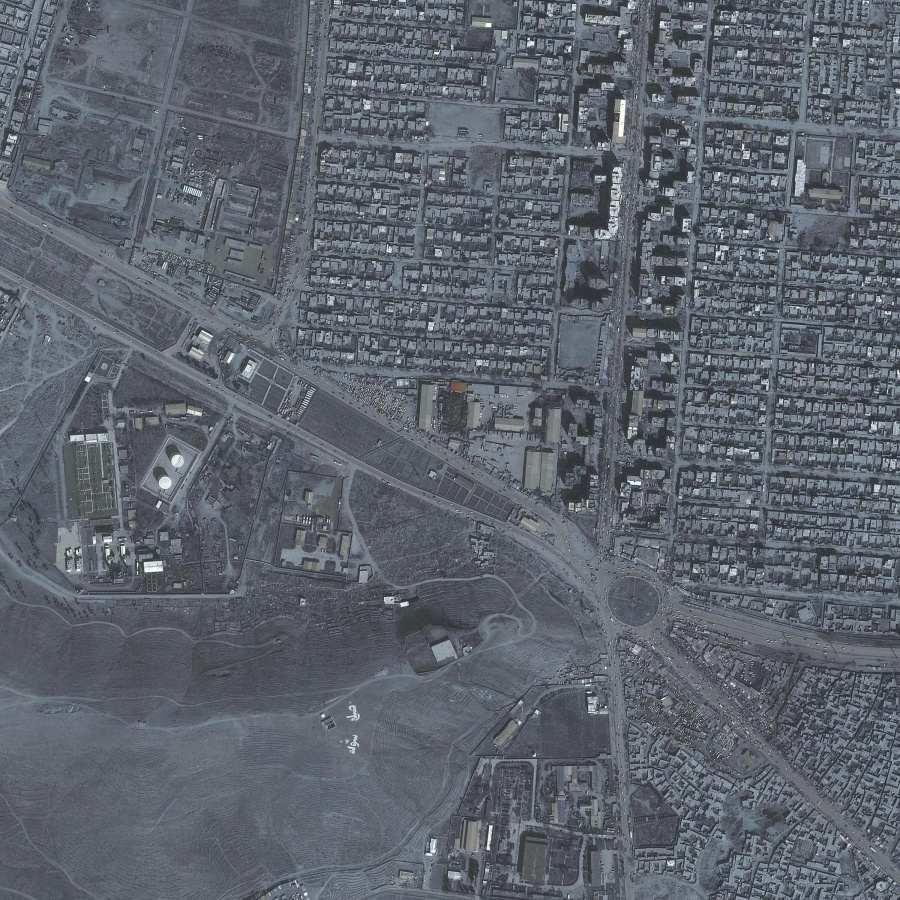PowerPlant: (65, 396, 208, 587)
